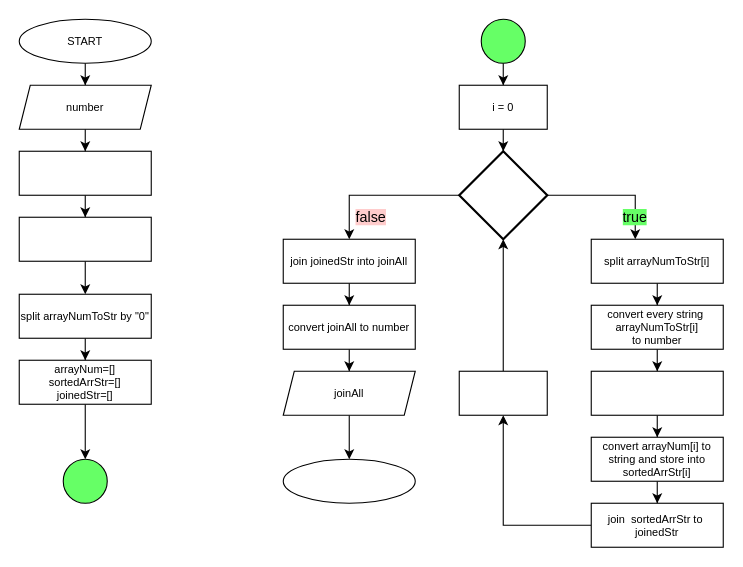
The diagram is 743 pixels wide and 567 high, and some of its shapes have lost their labels. The centre of each missing label's shape, as x and y in pixels:
"convert number to string" goes at [84,172].
"i < arrayNumToStr" goes at [503,195].
"i++" goes at [502,392].
"sort arrayNumToStr[i] and store into arrayNum" goes at [656,392].
"STOP" goes at [348,480].
"store convertedNumber to arrayNumToStr" goes at [84,238].
